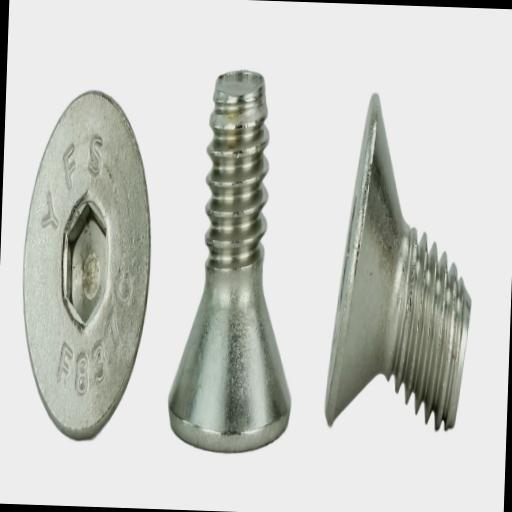Hex-Allen: (16, 87, 156, 446)
